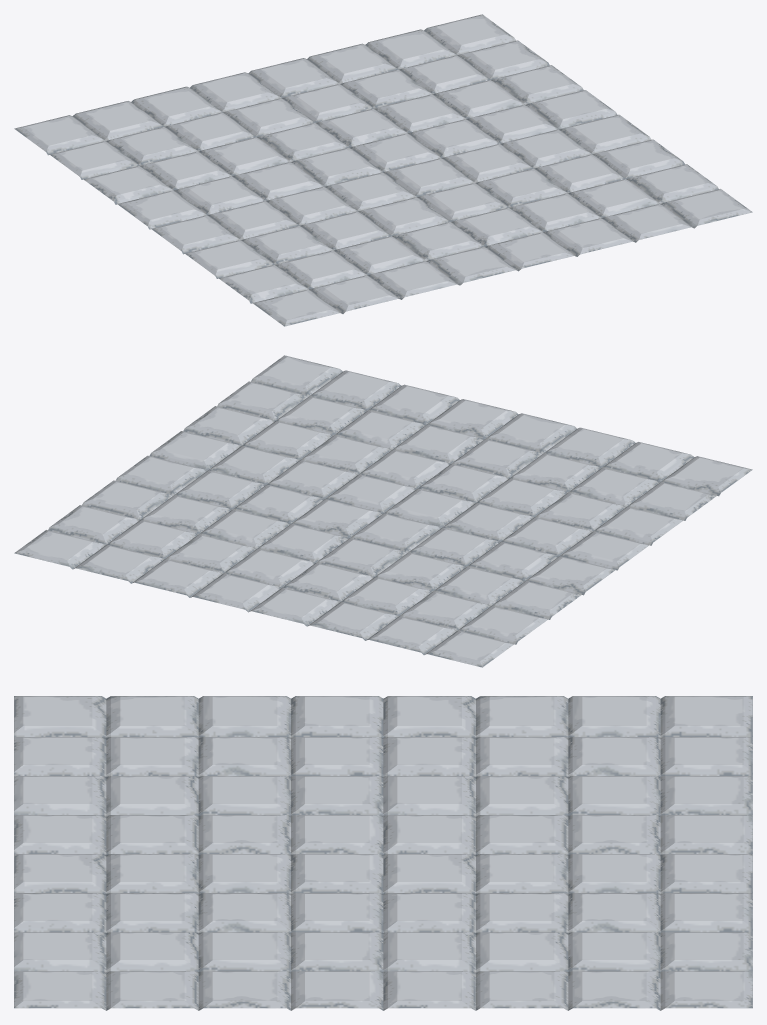
The model's file is ground_stone2.fbx.
3 views of the same model, one above another, from view 1: azimuth 30°, elevation 25°; view 2: azimuth 150°, elevation 25°; view 3: azimuth 270°, elevation 25° (orthographic). The views are drawn at different scales.
Visible parts, largest first — view 1: Plane.005; view 2: Plane.005; view 3: Plane.005.
Part boxes in pixels (<box>): Plane.005: <box>14,14,752,326</box>; Plane.005: <box>14,355,752,667</box>; Plane.005: <box>14,696,752,1010</box>.
Size of the model in its own units: 1100 by 9.73 by 1100.
